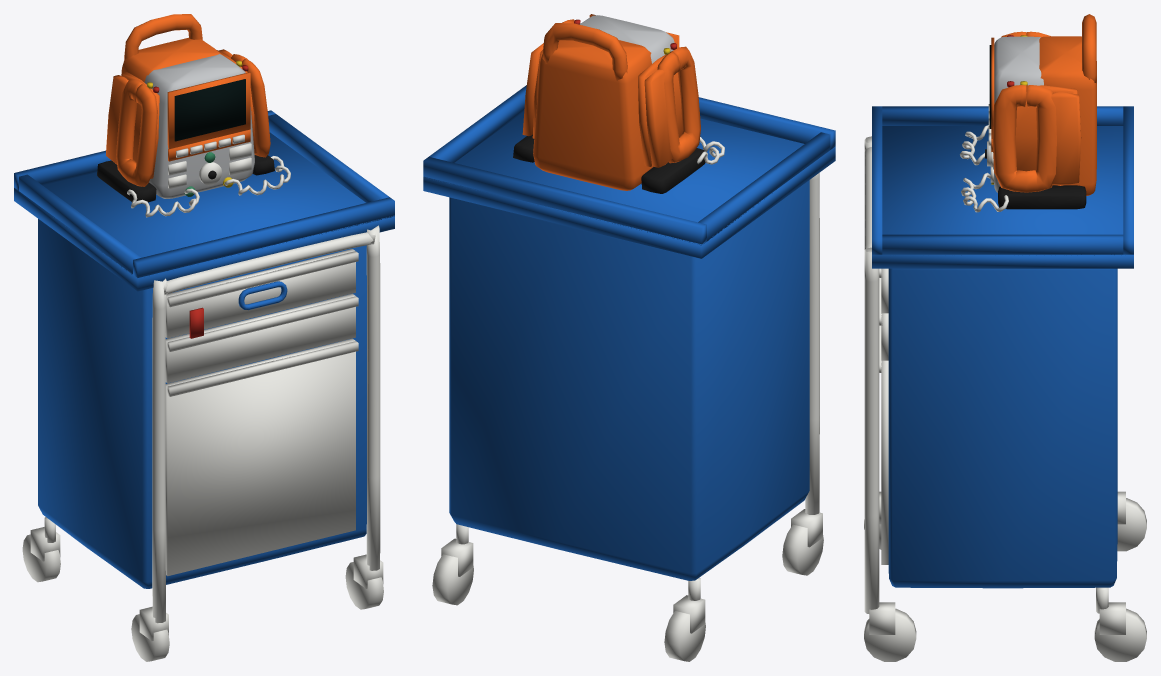
Rendered from defib_cart.glb.
3 renders of one model, left to right at view 1: azimuth 30°, elevation 25°; view 2: azimuth 150°, elevation 25°; view 3: azimuth 270°, elevation 25°, orthographic. The views are drawn at different scales.
Parts seen in each view (by area): view 1: Body, Drawers, Handles, Paddles, Front, Wheels, Screen, Bezel, Unit, Keys, Carry, Holders (+1 smaller); view 2: Body, Unit, Paddles, Wheels, Handles, Carry, Holders, Front; view 3: Body, Paddles, Wheels, Handles, Unit, Drawers, Front, Holders, Cords, Carry.
Boxes of the visible parts, bbox=[...] form: Body: bbox=[14, 110, 394, 588]; Drawers: bbox=[165, 249, 358, 576]; Handles: bbox=[152, 225, 380, 623]; Paddles: bbox=[106, 49, 270, 186]; Front: bbox=[144, 54, 254, 198]; Wheels: bbox=[22, 517, 383, 661]; Screen: bbox=[174, 79, 245, 141]; Bezel: bbox=[167, 72, 250, 161]; Unit: bbox=[121, 37, 224, 82]; Keys: bbox=[168, 134, 251, 188]; Carry: bbox=[124, 14, 202, 59]; Holders: bbox=[97, 155, 274, 203]; Body: bbox=[423, 85, 835, 580]; Unit: bbox=[533, 40, 653, 190]; Paddles: bbox=[522, 19, 700, 167]; Wheels: bbox=[432, 509, 823, 661]; Handles: bbox=[805, 173, 819, 514]; Carry: bbox=[542, 23, 627, 81]; Holders: bbox=[513, 134, 705, 193]; Front: bbox=[579, 15, 674, 63]; Body: bbox=[872, 106, 1133, 588]; Paddles: bbox=[992, 31, 1081, 192]; Wheels: bbox=[864, 491, 1146, 661]; Handles: bbox=[864, 136, 879, 613]; Unit: bbox=[1039, 36, 1096, 195]; Drawers: bbox=[879, 268, 888, 564]; Front: bbox=[993, 36, 1043, 192]; Holders: bbox=[998, 185, 1086, 209]; Cords: bbox=[960, 125, 1008, 212]; Carry: bbox=[1082, 14, 1096, 83].
Size of the model in its own units: 0.6 by 1.22 by 0.54.
